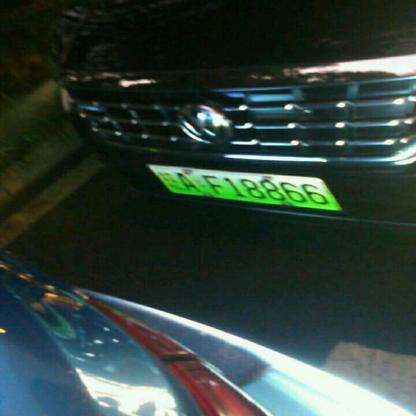lp: (147, 164, 341, 210)
